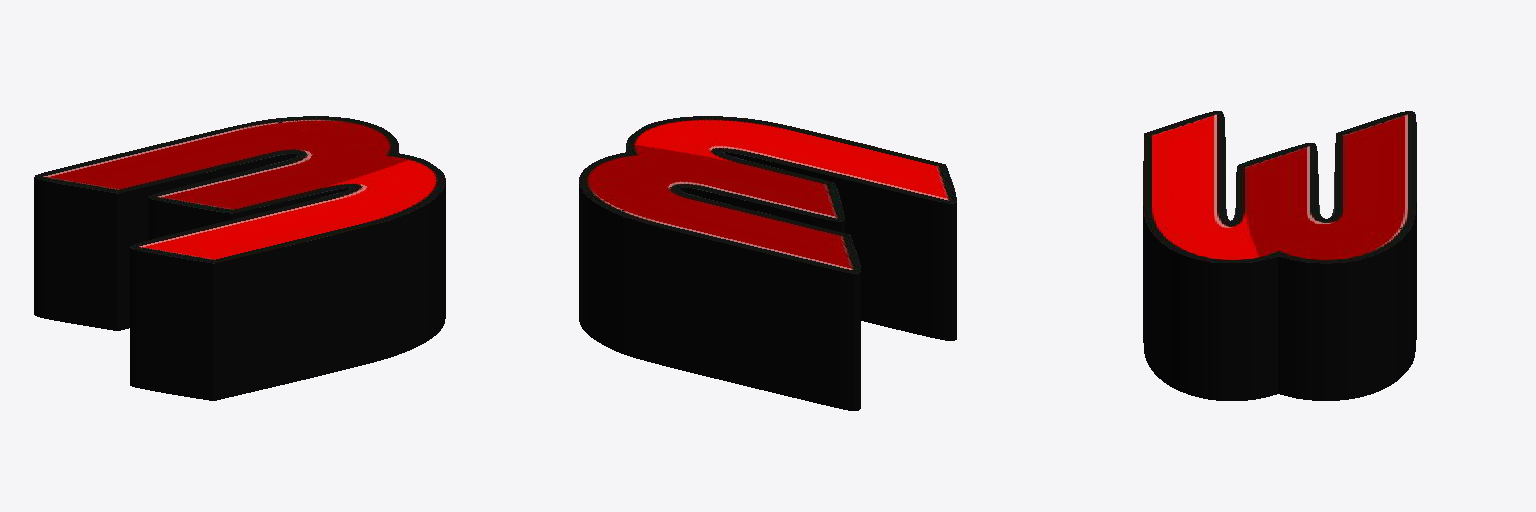
The picture shows the model from 3 angles: view 1: azimuth 30°, elevation 25°; view 2: azimuth 150°, elevation 25°; view 3: azimuth 270°, elevation 25°; orthographic projection.
Parts seen in each view (by area): view 1: Shape1; view 2: Shape1; view 3: Shape1.
Boxes of the visible parts, <box> form: Shape1: <box>34,116,445,400</box>; Shape1: <box>579,116,956,410</box>; Shape1: <box>1143,111,1416,400</box>.
Bounding box in the file's own units: 2.86 × 1.2 × 2.17.
Materials: 3 (2 with a texture image).